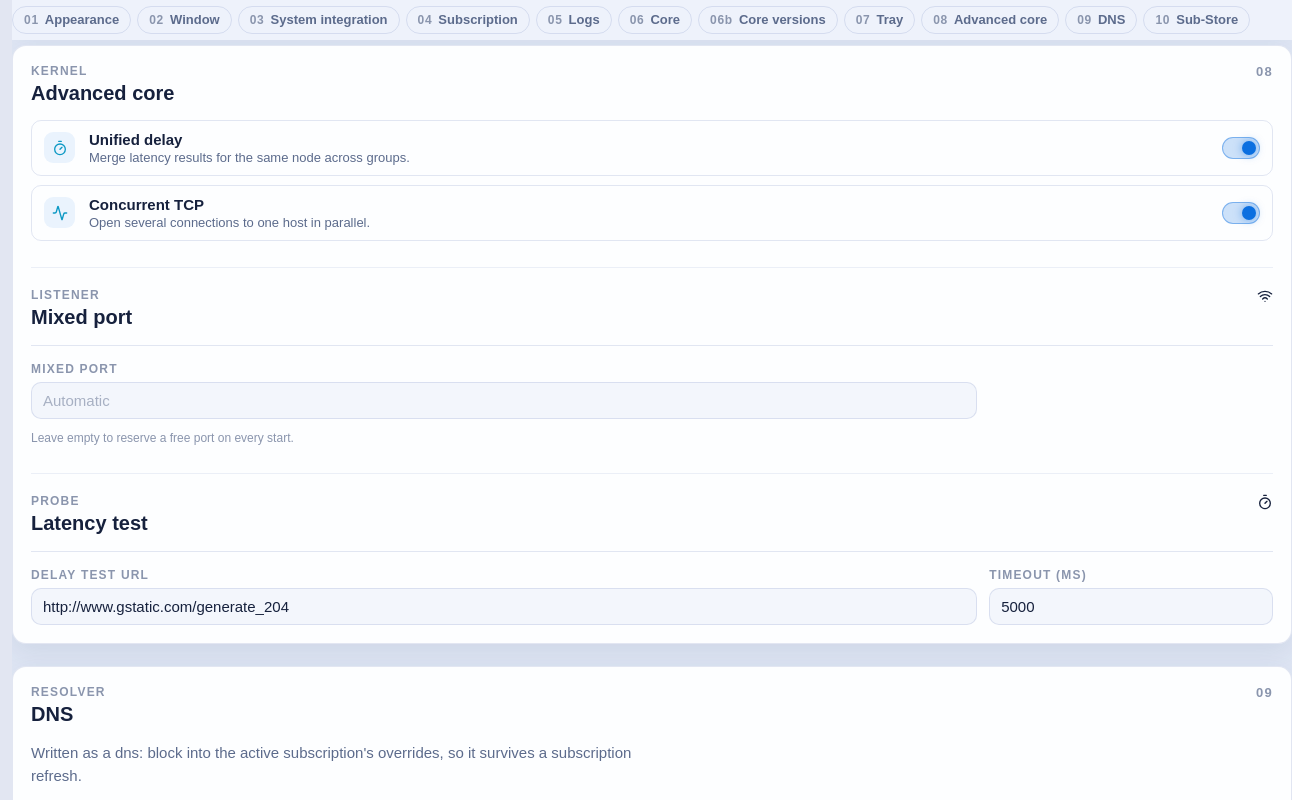
Test: SettingsPage preferences › rejects a privileged mixed-port instead of saving it
(page scrolled)
Type "80" into the number field labelled "Mixed port" at (504, 400), box [31,382,977,419]
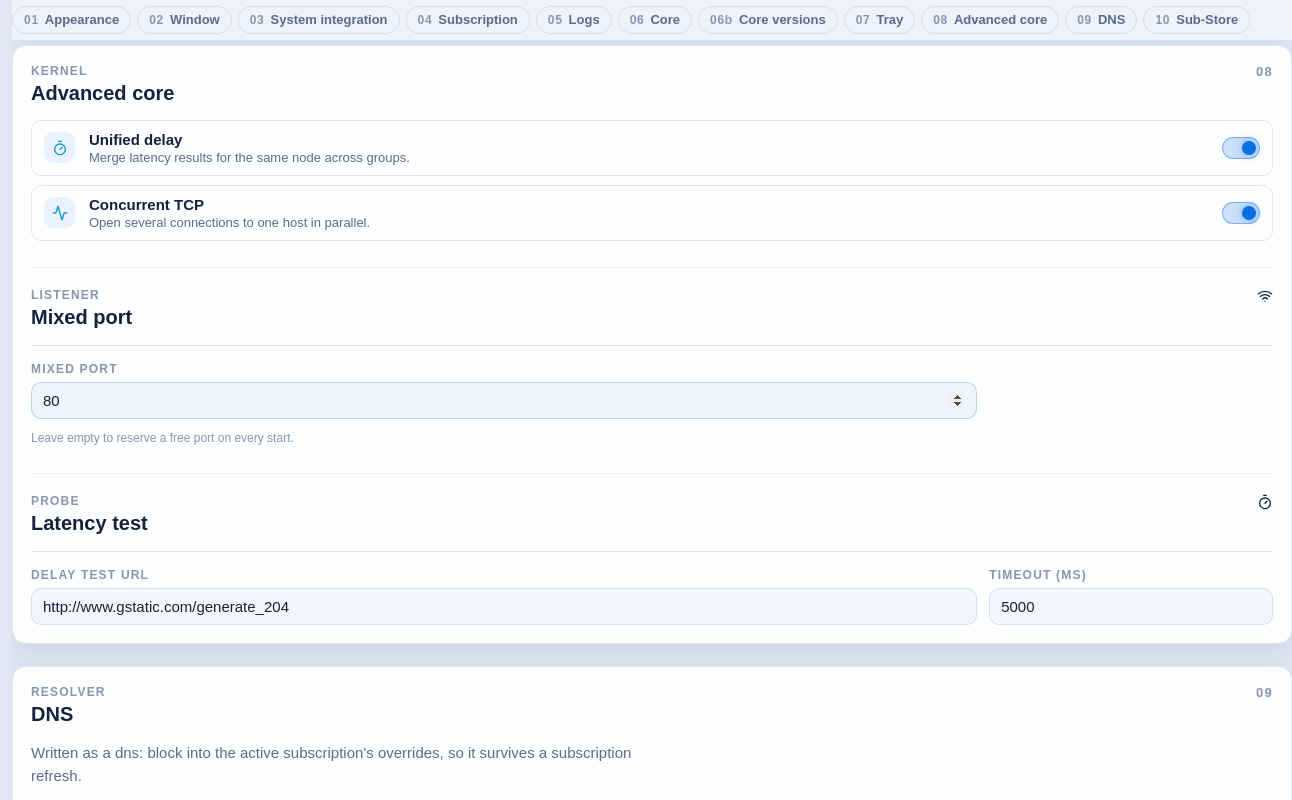
Press Tab
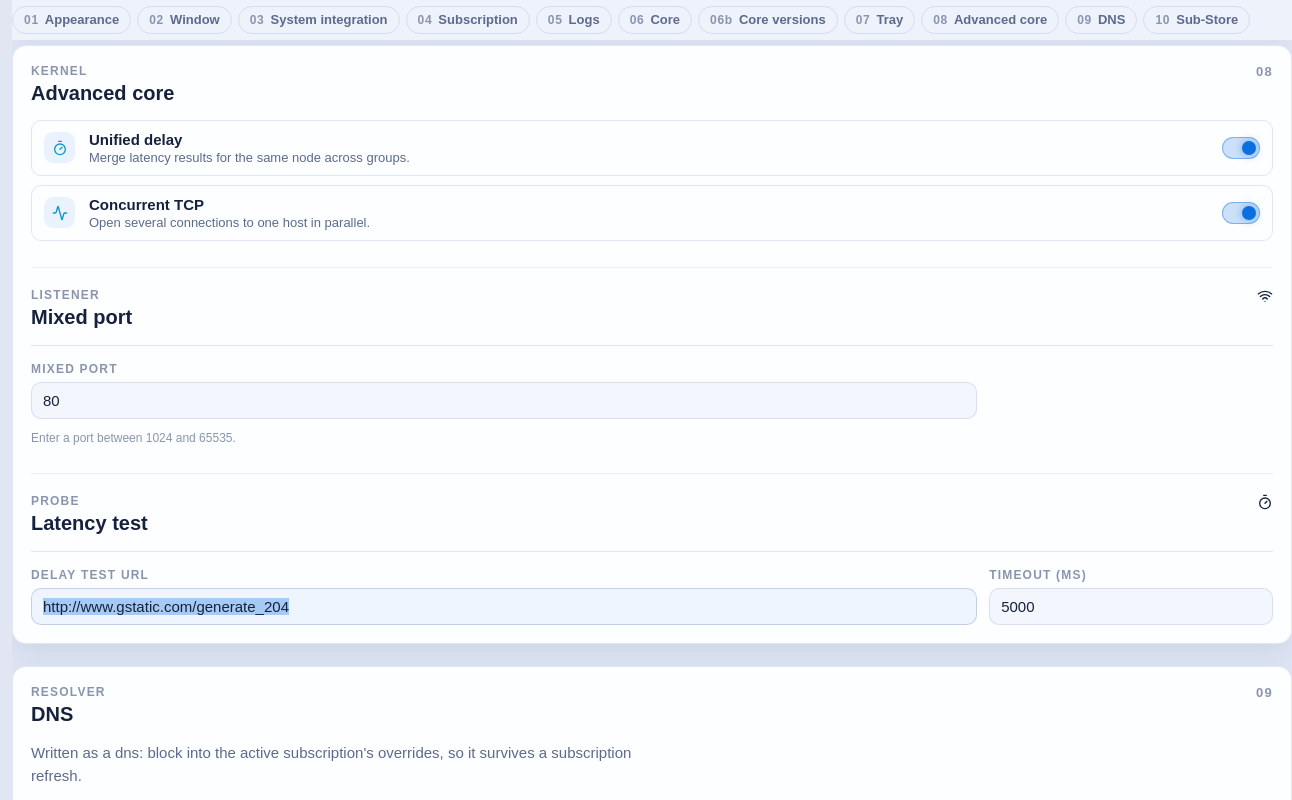
Expected: the text "Enter a port between 1024 and 65535." is shown, [31,431,236,445]
